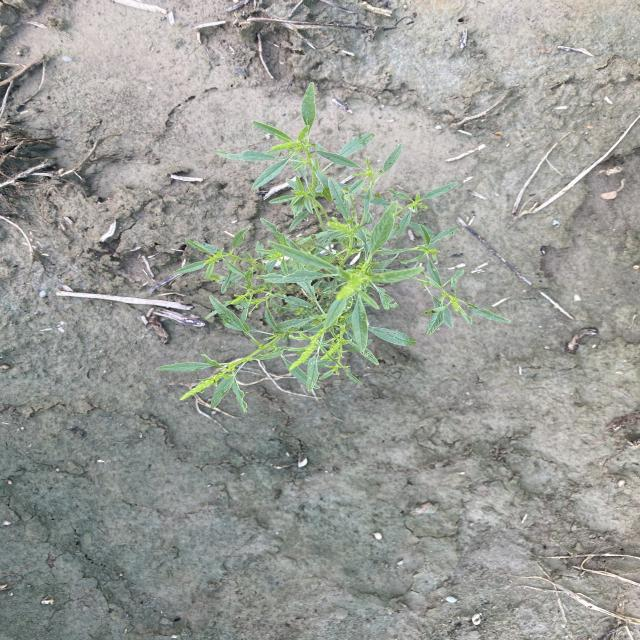Waterhemp: (151, 78, 515, 416)
